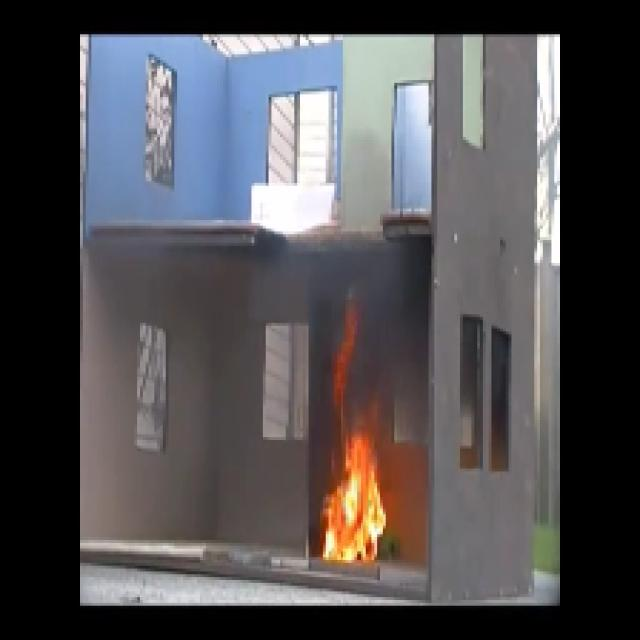fire: (317, 419, 388, 576)
smoke: (321, 245, 415, 299)
